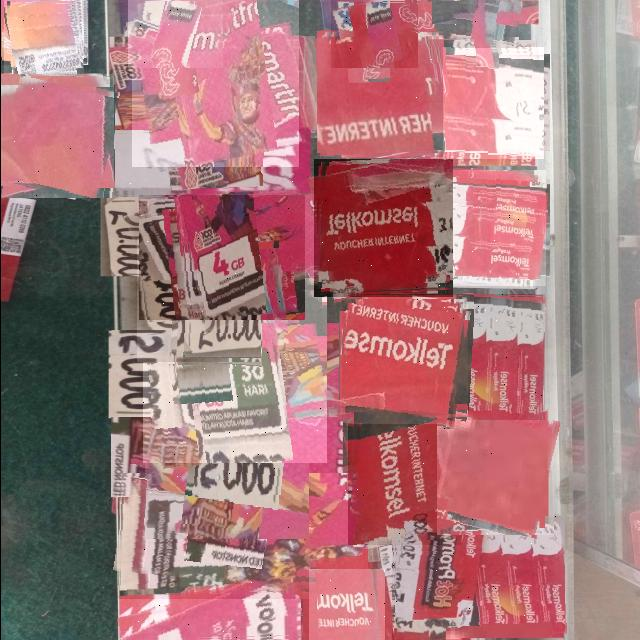Indosat: (127, 0, 222, 68)
Indosat-3: (0, 74, 113, 198), (3, 0, 83, 74), (330, 0, 417, 68), (450, 0, 518, 48)
Telkomsel: (391, 516, 564, 640), (313, 159, 452, 297), (316, 31, 442, 157), (341, 299, 467, 424), (436, 404, 553, 535), (347, 412, 461, 545), (430, 170, 545, 286), (430, 47, 543, 159), (456, 294, 544, 420), (308, 569, 384, 640)
smartfren: (142, 278, 326, 463), (116, 473, 367, 599), (131, 0, 298, 167), (138, 152, 304, 320), (144, 375, 308, 539), (137, 238, 260, 362), (114, 129, 310, 195), (117, 586, 300, 640)
